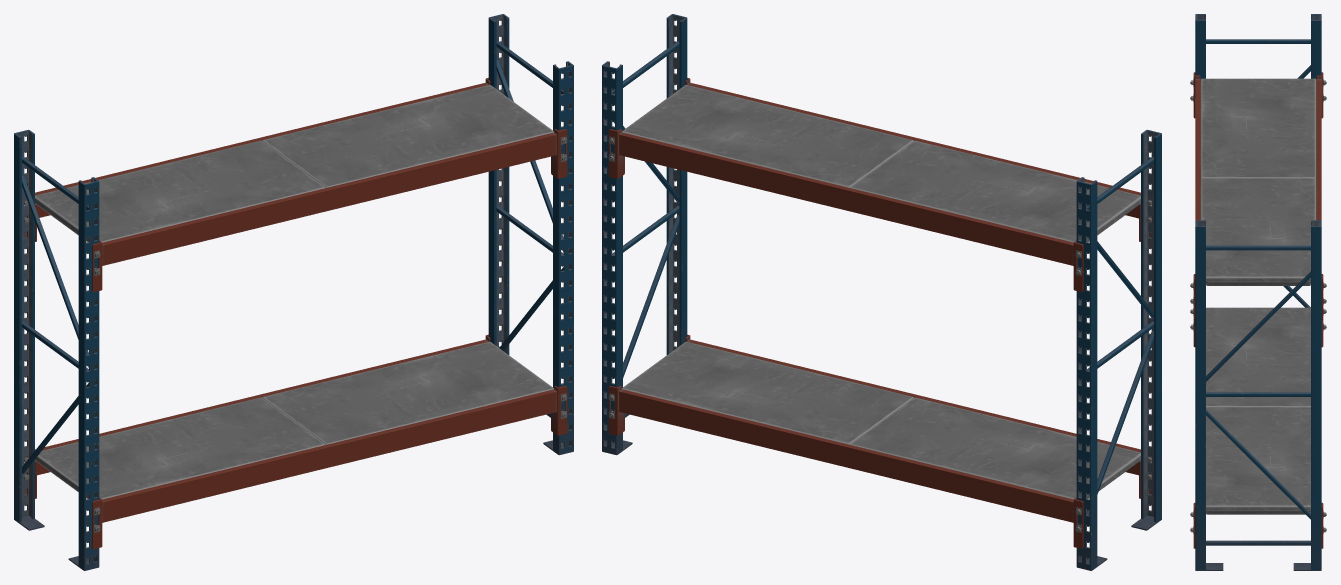
File: rack_long_empty_a01.glb
3 renders of one model, left to right at view 1: azimuth 30°, elevation 25°; view 2: azimuth 150°, elevation 25°; view 3: azimuth 270°, elevation 25°, orthographic. The views are drawn at different scales.
Visible parts, largest first — view 1: sm_rack_long_empty_a01_leggs_01_mesh_00; view 2: sm_rack_long_empty_a01_leggs_01_mesh_00; view 3: sm_rack_long_empty_a01_leggs_01_mesh_00.
Boxes of the visible parts, left/top/right/bottom form: sm_rack_long_empty_a01_leggs_01_mesh_00: left=14, top=14, right=573, bottom=570; sm_rack_long_empty_a01_leggs_01_mesh_00: left=602, top=14, right=1161, bottom=570; sm_rack_long_empty_a01_leggs_01_mesh_00: left=1190, top=14, right=1326, bottom=570.
Size of the model in its own units: 4 by 3.01 by 1.08.
Materials: 3 (3 with a texture image).
